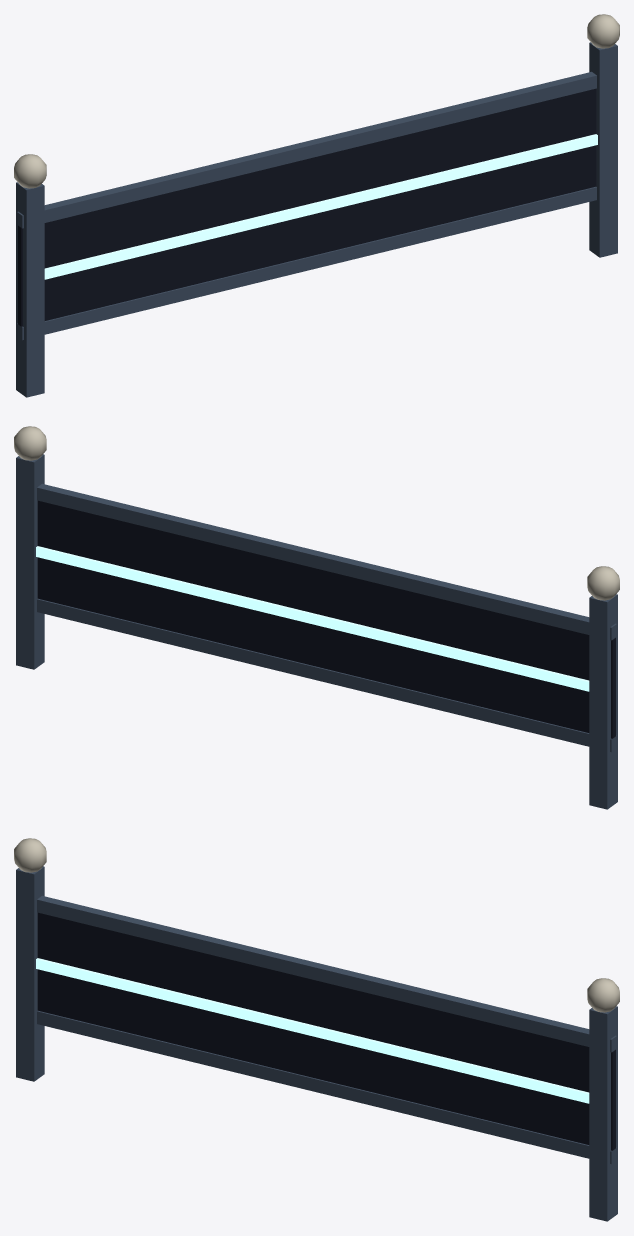
Rendered from fence_panel.glb.
3 renders of one model, top to bottom at view 1: azimuth 30°, elevation 25°; view 2: azimuth 150°, elevation 25°; view 3: azimuth 330°, elevation 25°, orthographic.
Visible parts, largest first — view 1: fence_panel; view 2: fence_panel; view 3: fence_panel.
Part boxes in pixels (x1,y1,x2,y2): fence_panel: (14,14,619,397); fence_panel: (14,426,619,809); fence_panel: (14,838,619,1221).
Bounding box in the file's own units: 3.94 × 1.48 × 0.1902.
